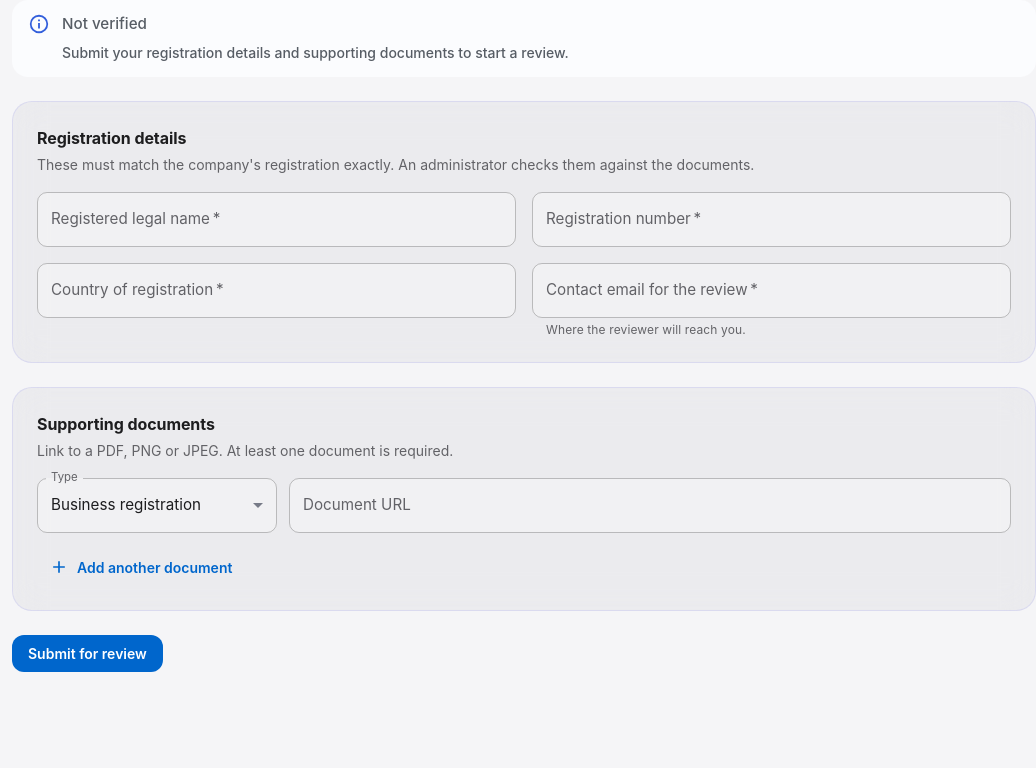
CompanyVerification › refuses a submission with no usable document link
expect the text "Not verified" is shown: met, box [62,14,147,33]
In the field labelled "Registered legal name *": (276, 219) [37,192,516,247], type "Northwind Logistics FZE"
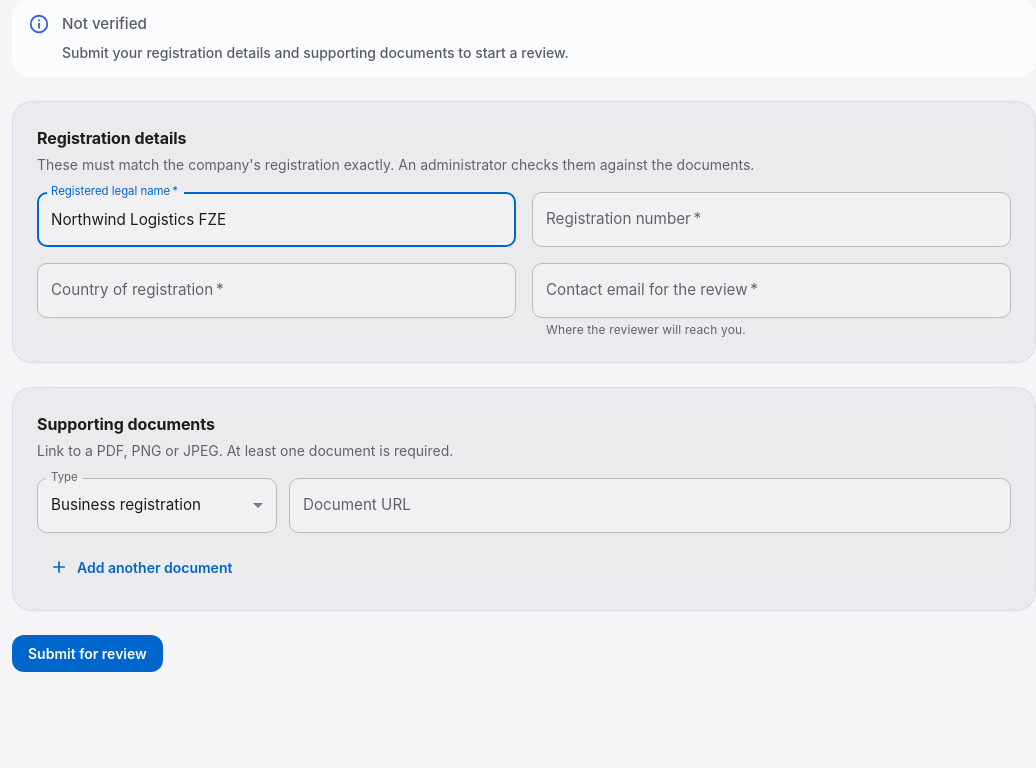
In the field labelled "Registration number *": (772, 219) [532,192,1011,247], type "FZE-119284"
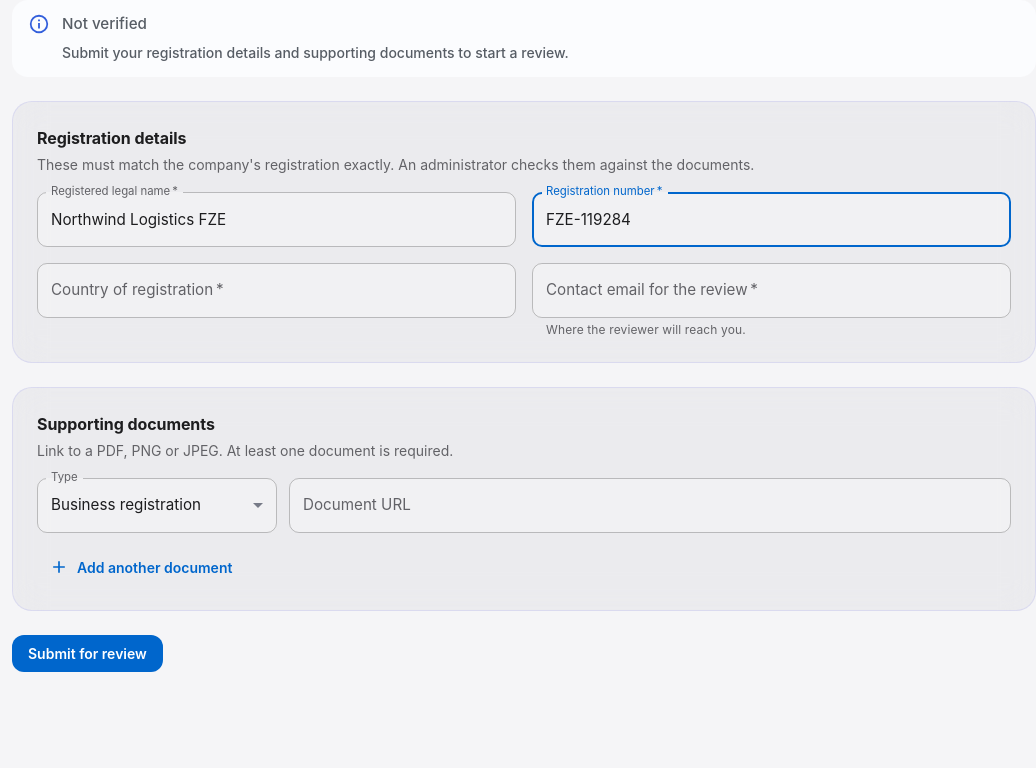
In the field labelled "Country of registration *": (276, 290) [37,263,516,318], type "United Arab Emirates"
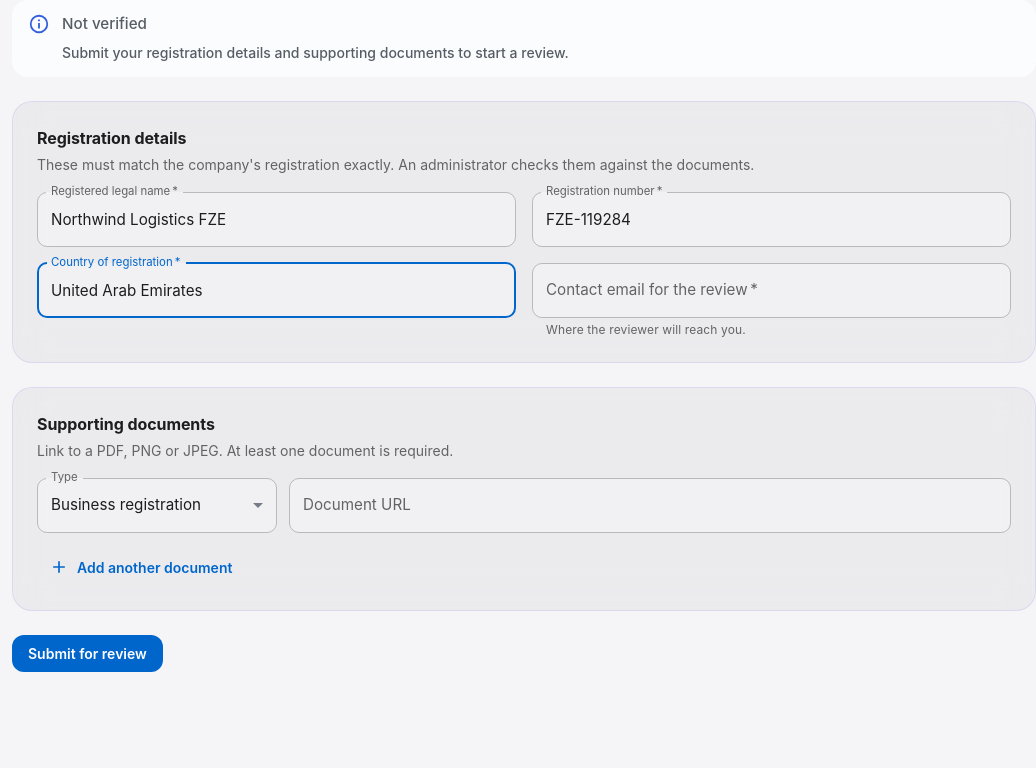
In the field labelled "Contact email for the review *": (772, 290) [532,263,1011,318], type "legal@northwind.example"
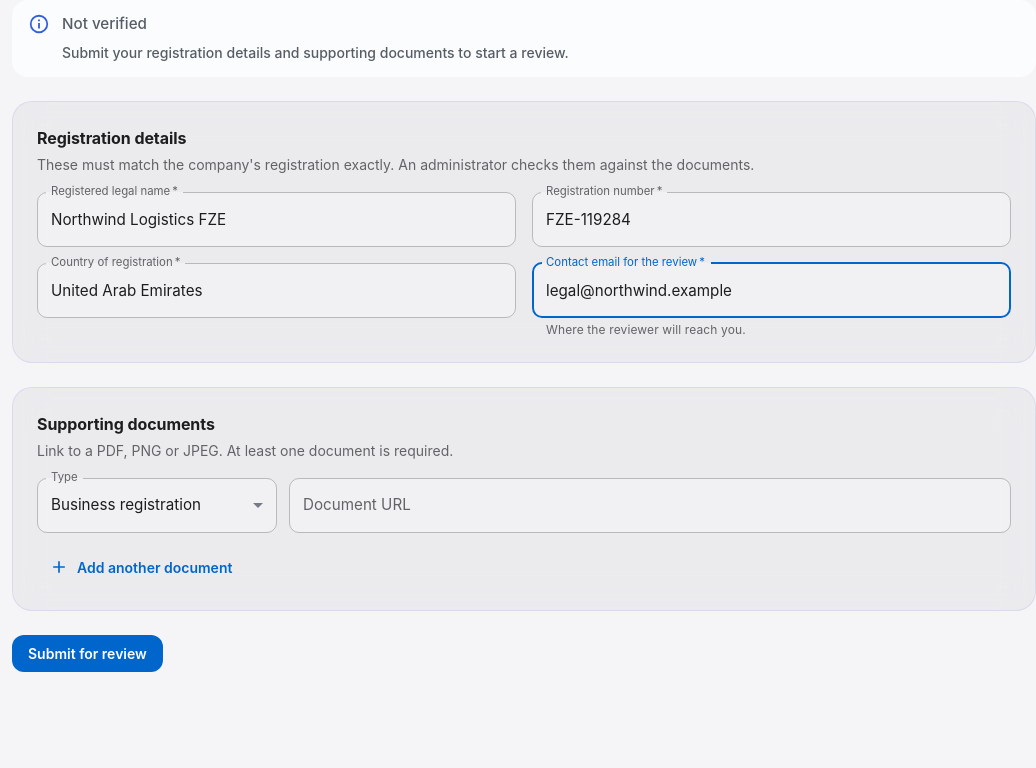
In the field labelled "Document URL": (650, 505) [289,478,1011,533], type "https://northwind.example/docs/notes.txt"
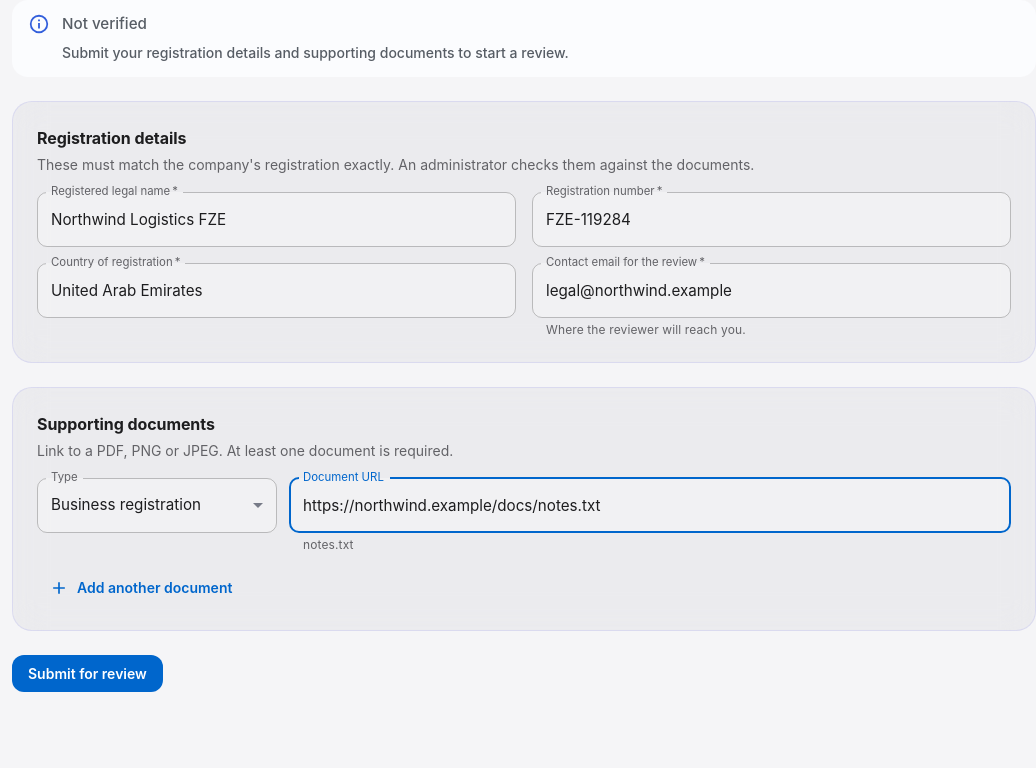
Click the button "Submit for review": (87, 674) [12,655,163,692]
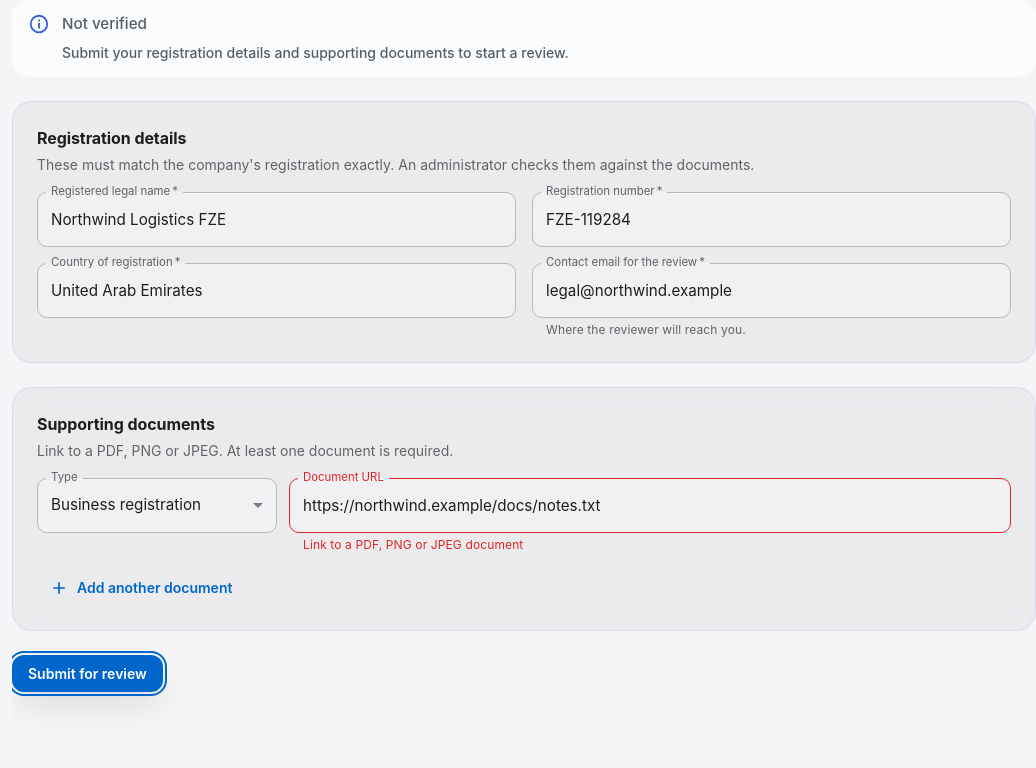
expect the text "Link to a PDF, PNG or JPEG document" is shown: met, box [303,537,523,552]
